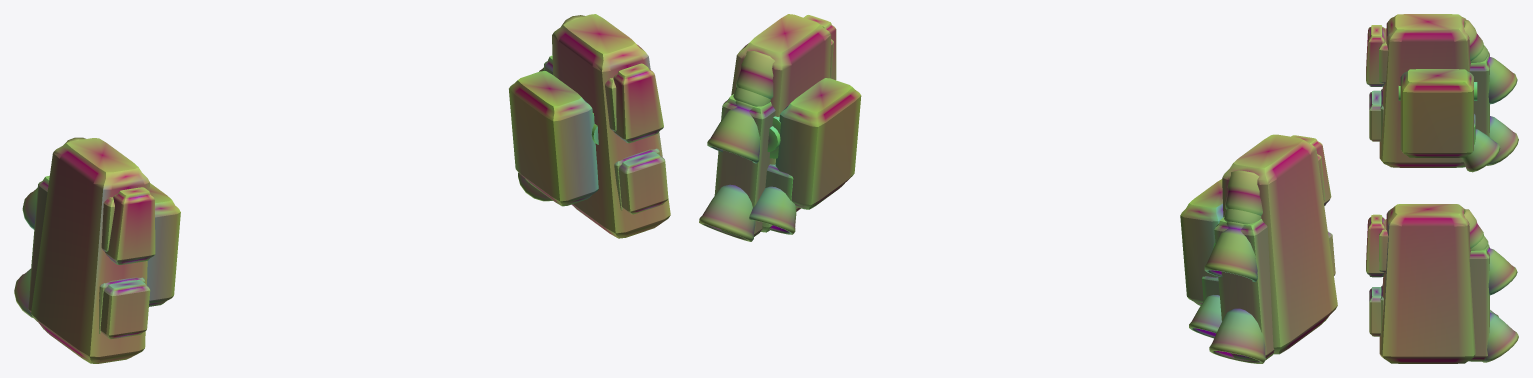
File: llm_gen_leg_thrusters_005_525d34.glb
3 renders of one model, left to right at view 1: azimuth 30°, elevation 25°; view 2: azimuth 150°, elevation 25°; view 3: azimuth 270°, elevation 25°, orthographic. The views are drawn at different scales.
Visible parts, largest first — view 1: outer_shin_armor_0_gold_l, outer_shin_armor_0_gold_r, adapter_calf_clamp_r, knee_guard_blade_2_amber_optic_l, knee_guard_blade_2_amber_optic_r, adapter_calf_clamp_l, lower_shin_bumper_4_crimson_gloss_l, lower_shin_bumper_4_crimson_gloss_r, rear_thruster_manifold_dark_5_adapter_dark_l, rear_surge_bell_bot_7_vernier_bell_vernier_l, knee_guard_adapter_dark_1_adapter_dark_l; view 2: outer_shin_armor_0_gold_l, adapter_calf_clamp_r, outer_shin_armor_0_gold_r, rear_thruster_manifold_dark_5_adapter_dark_l, adapter_calf_clamp_l, rear_thruster_manifold_dark_5_adapter_dark_r, rear_surge_bell_bot_7_vernier_bell_vernier_l, rear_surge_bell_bot_7_vernier_bell_vernier_r, rear_surge_bell_top_6_vernier_bell_vernier_r, rear_surge_bell_top_6_vernier_bell_vernier_l, addon_leg_bell_9_vernier_bell_vernier_r, rear_surge_bell_top_6_vernier_bell_gimbal_collar_dark_r (+3 smaller); view 3: outer_shin_armor_0_gold_r, outer_shin_armor_0_gold_l, adapter_calf_clamp_l, rear_thruster_manifold_dark_5_adapter_dark_r, rear_thruster_manifold_dark_5_adapter_dark_l, rear_surge_bell_bot_7_vernier_bell_vernier_r, rear_surge_bell_top_6_vernier_bell_vernier_l, knee_guard_blade_2_amber_optic_l, addon_leg_bell_9_vernier_bell_vernier_l, knee_guard_blade_2_amber_optic_r, rear_surge_bell_top_6_vernier_bell_vernier_r, rear_surge_bell_bot_7_vernier_bell_vernier_l (+8 smaller).
Part boxes in pixels (x1,y1,x2,y2): outer_shin_armor_0_gold_l: [31, 138, 149, 363]; outer_shin_armor_0_gold_r: [552, 14, 670, 238]; adapter_calf_clamp_r: [509, 71, 598, 206]; knee_guard_blade_2_amber_optic_l: [105, 187, 155, 264]; knee_guard_blade_2_amber_optic_r: [613, 63, 663, 143]; adapter_calf_clamp_l: [147, 183, 180, 306]; lower_shin_bumper_4_crimson_gloss_l: [100, 280, 150, 338]; lower_shin_bumper_4_crimson_gloss_r: [618, 151, 668, 214]; rear_thruster_manifold_dark_5_adapter_dark_l: [28, 175, 49, 312]; rear_surge_bell_bot_7_vernier_bell_vernier_l: [14, 268, 33, 317]; knee_guard_adapter_dark_1_adapter_dark_l: [101, 197, 114, 251]; outer_shin_armor_0_gold_l: [1222, 134, 1337, 354]; adapter_calf_clamp_r: [769, 78, 861, 209]; outer_shin_armor_0_gold_r: [731, 14, 831, 232]; rear_thruster_manifold_dark_5_adapter_dark_l: [1214, 217, 1274, 361]; adapter_calf_clamp_l: [1180, 179, 1223, 305]; rear_thruster_manifold_dark_5_adapter_dark_r: [714, 94, 775, 237]; rear_surge_bell_bot_7_vernier_bell_vernier_l: [1209, 308, 1265, 363]; rear_surge_bell_bot_7_vernier_bell_vernier_r: [699, 184, 755, 241]; rear_surge_bell_top_6_vernier_bell_vernier_r: [707, 100, 759, 163]; rear_surge_bell_top_6_vernier_bell_vernier_l: [1204, 221, 1257, 281]; addon_leg_bell_9_vernier_bell_vernier_r: [749, 186, 796, 234]; rear_surge_bell_top_6_vernier_bell_gimbal_collar_dark_r: [736, 51, 774, 99]; outer_shin_armor_0_gold_r: [1379, 204, 1475, 363]; outer_shin_armor_0_gold_l: [1379, 14, 1470, 167]; adapter_calf_clamp_l: [1400, 69, 1473, 157]; rear_thruster_manifold_dark_5_adapter_dark_r: [1468, 247, 1489, 361]; rear_thruster_manifold_dark_5_adapter_dark_l: [1469, 51, 1489, 136]; rear_surge_bell_bot_7_vernier_bell_vernier_r: [1482, 312, 1518, 362]; rear_surge_bell_top_6_vernier_bell_vernier_l: [1486, 53, 1517, 104]; knee_guard_blade_2_amber_optic_l: [1366, 25, 1385, 86]; addon_leg_bell_9_vernier_bell_vernier_l: [1462, 129, 1500, 172]; knee_guard_blade_2_amber_optic_r: [1366, 214, 1385, 277]; rear_surge_bell_top_6_vernier_bell_vernier_r: [1486, 244, 1517, 295]; rear_surge_bell_bot_7_vernier_bell_vernier_l: [1486, 116, 1518, 165].
Size of the model in its own units: 78.24 by 24.27 by 22.94.
